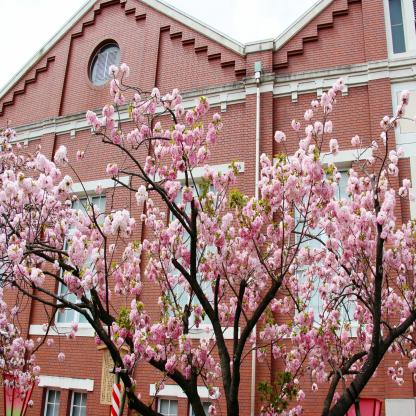YaeSakura: (0, 66, 416, 402)
